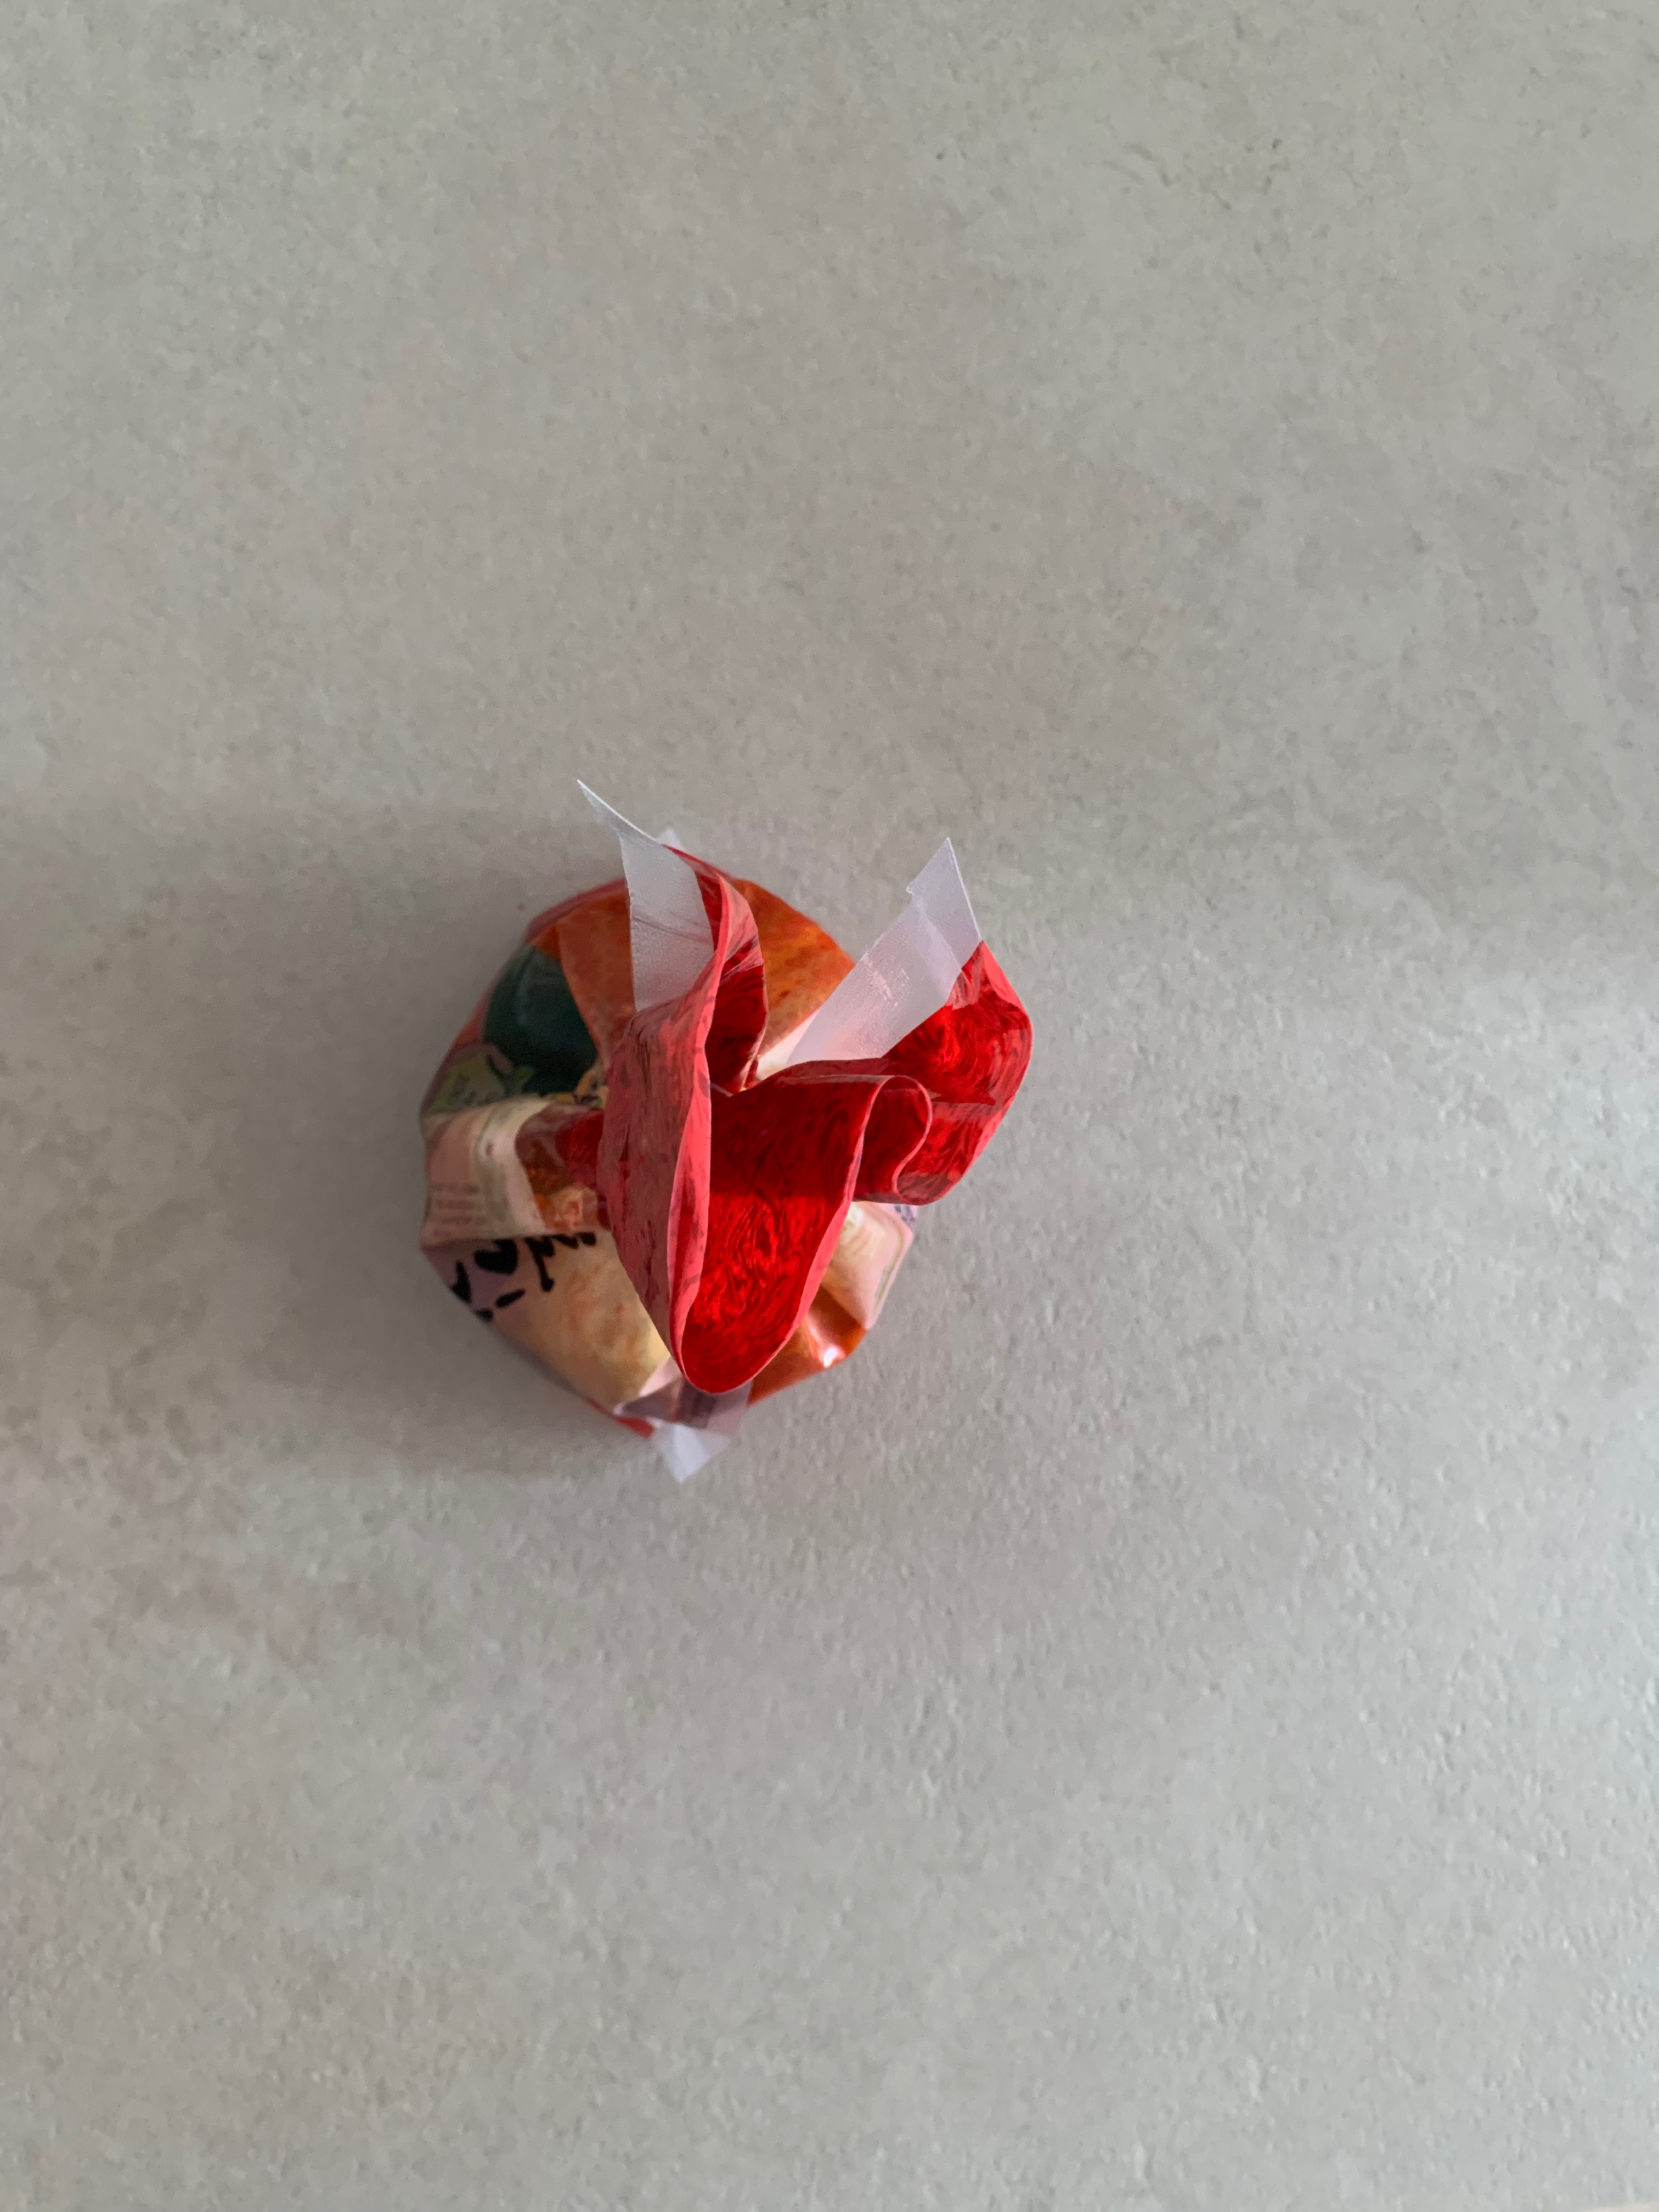kimchi: (427, 845, 1035, 1430)
